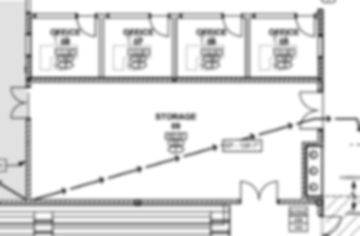door: (75, 12, 98, 39), (148, 14, 171, 38), (222, 14, 244, 39), (294, 15, 316, 37), (321, 214, 343, 235)
double door: (297, 89, 327, 132), (238, 179, 279, 204), (8, 85, 32, 120)
wall: (24, 76, 320, 85), (1, 198, 242, 206), (24, 118, 32, 200), (300, 140, 308, 199), (276, 197, 325, 206), (23, 54, 32, 89), (316, 6, 326, 34), (25, 11, 34, 36), (316, 127, 325, 149), (299, 141, 325, 147)
window: (316, 33, 328, 58), (23, 33, 34, 57)
